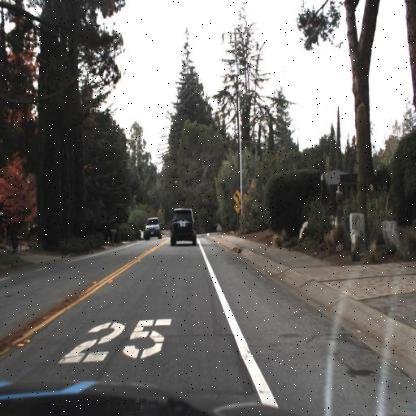car: (168, 206, 198, 251), (145, 218, 161, 244)
